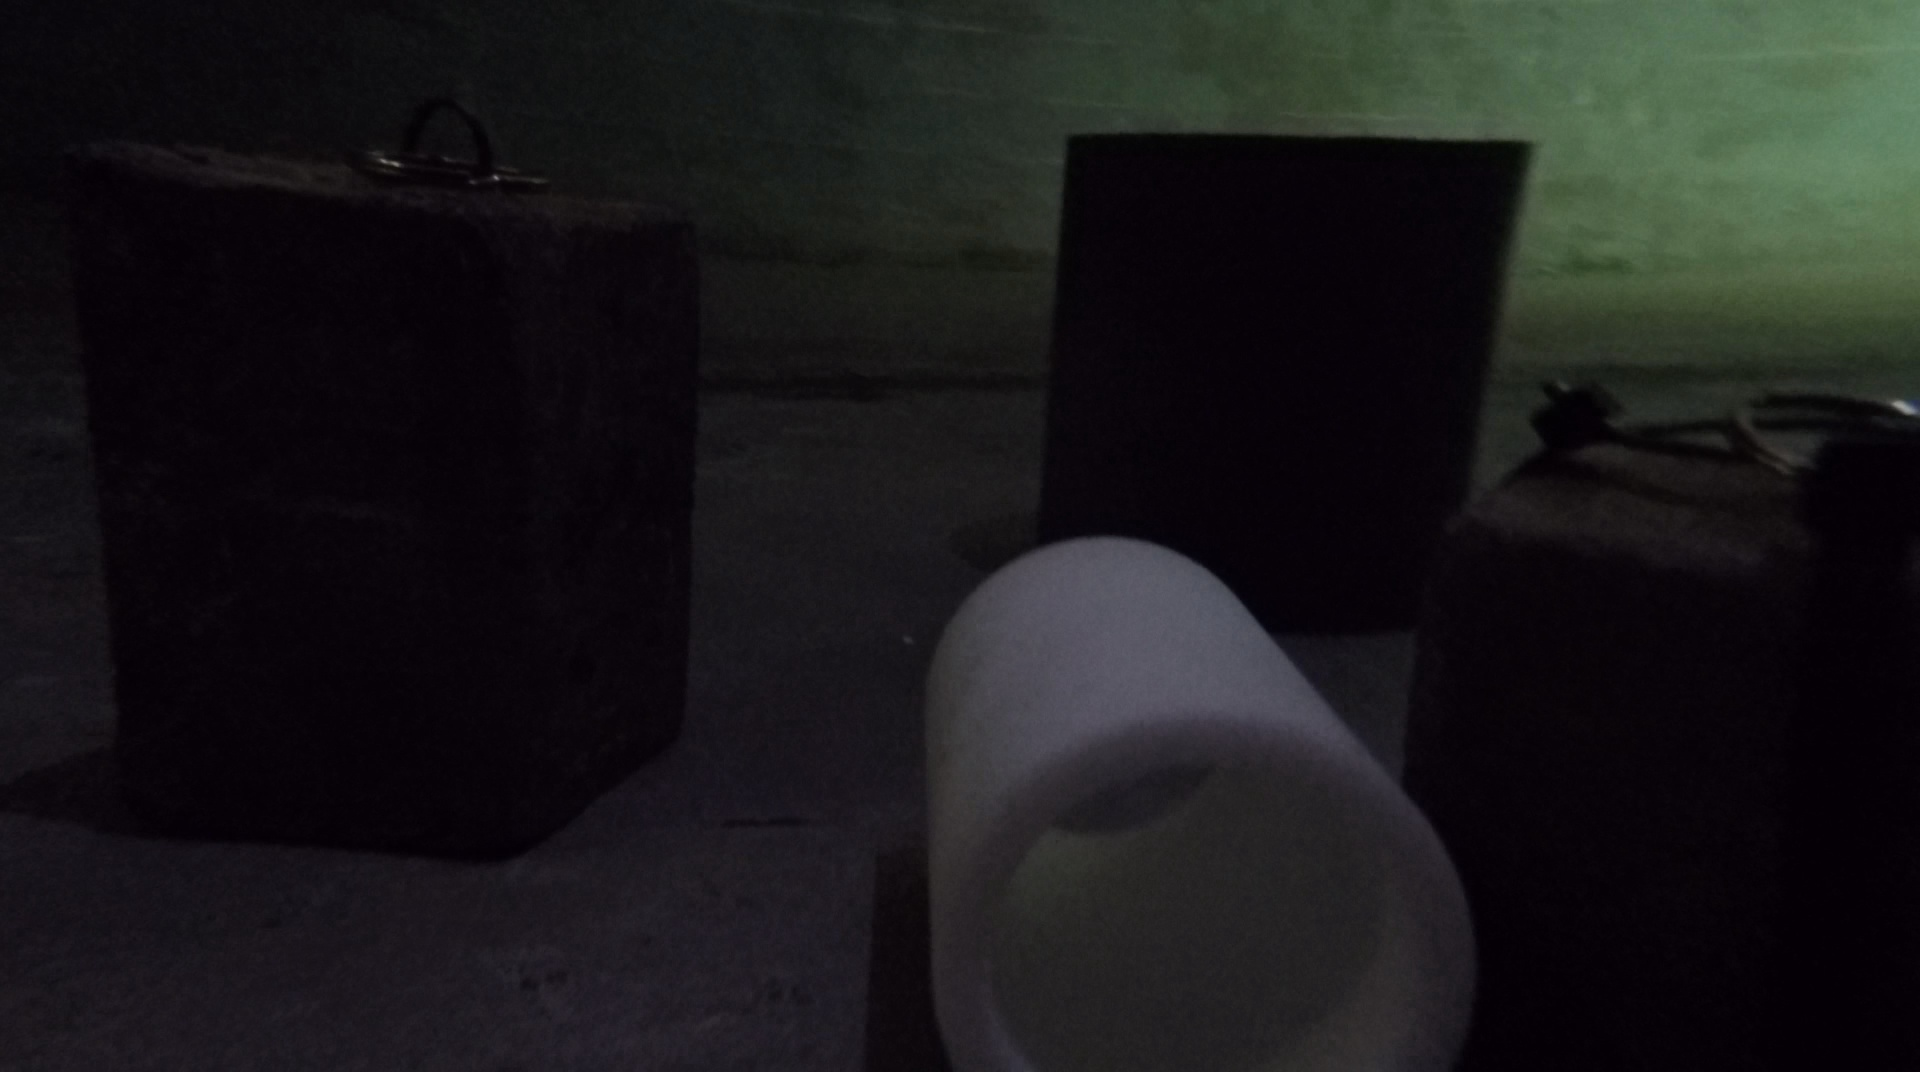led_block: (76, 102, 700, 858), (1400, 376, 1916, 1072)
pipe: (924, 533, 1477, 1072), (1033, 132, 1539, 633)
